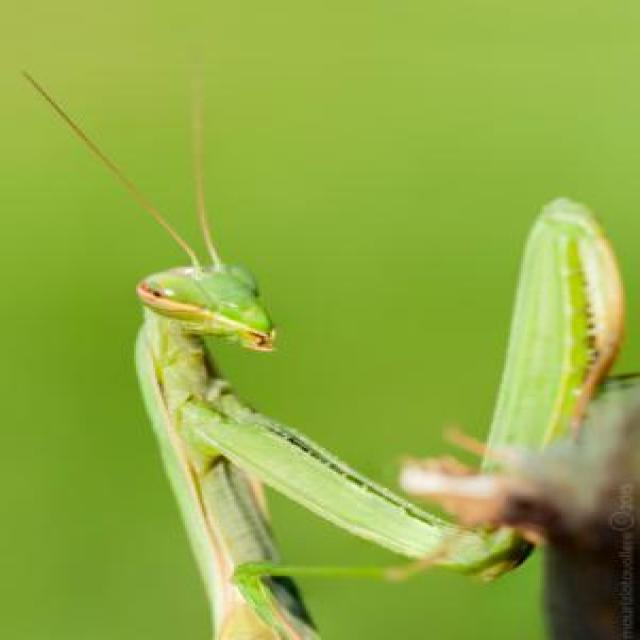antennae: (23, 76, 199, 269), (188, 74, 220, 271)
body: (130, 262, 330, 640)
insect: (13, 74, 624, 640)
legs: (175, 200, 623, 564), (198, 497, 473, 640)
mouthpart: (221, 305, 289, 362)
